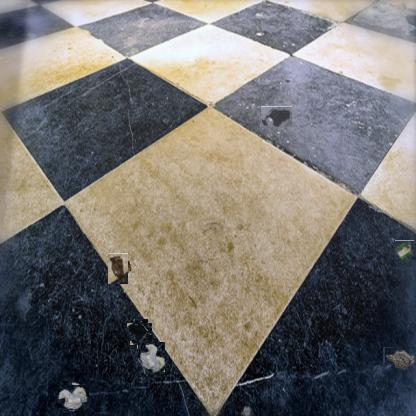dirty: (137, 342, 165, 374), (58, 382, 87, 412), (384, 347, 416, 371), (106, 256, 131, 282), (197, 219, 225, 241), (394, 240, 415, 261)
liquid: (260, 106, 292, 127), (128, 321, 150, 343)
